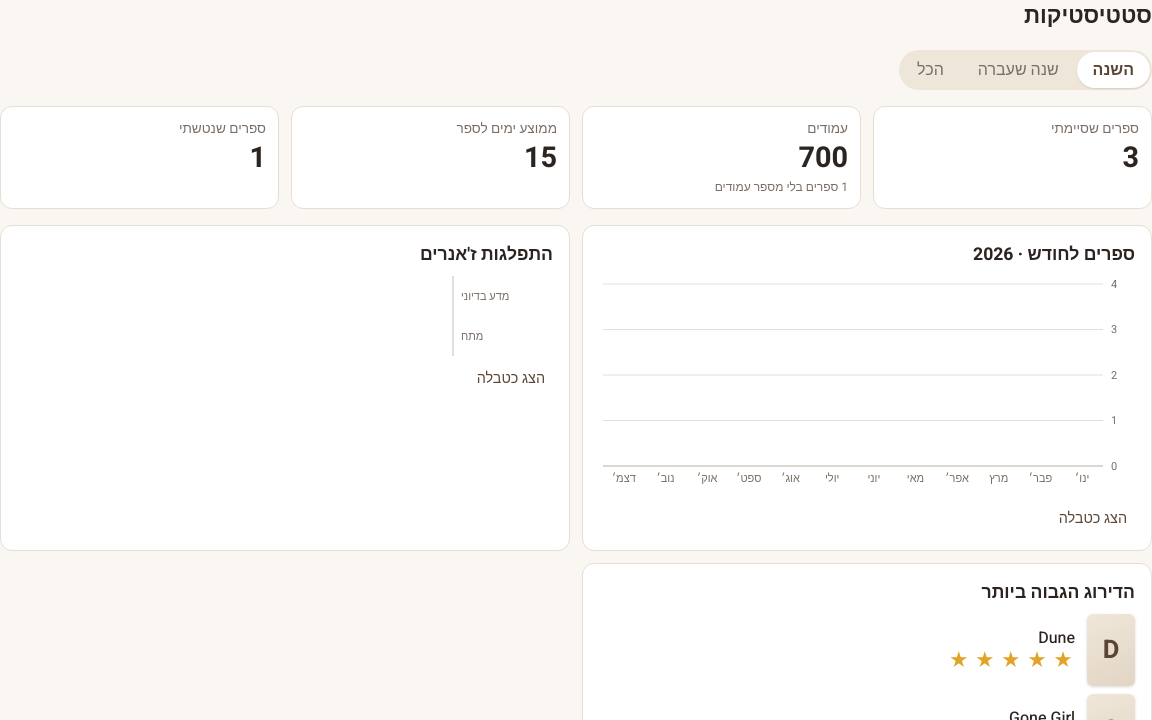
Test: Stats › shows books per month as a table
Click the button "הצג כטבלה" below "ינו׳". click: (1093,519)
box: [1051,504,1135,534]
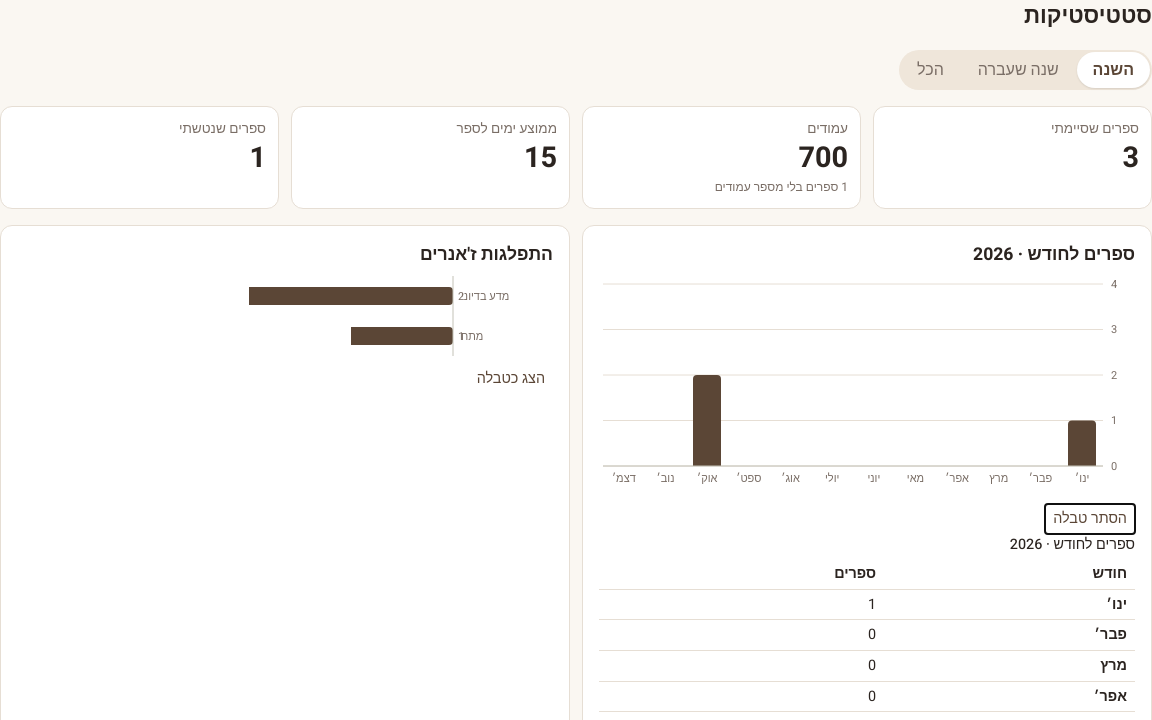
expect the number of rows is 13: met
expect the row "ינו׳ 1" is shown: met, box [599,589,1135,620]
expect the row "מרץ 0" is shown: met, box [599,650,1135,681]
